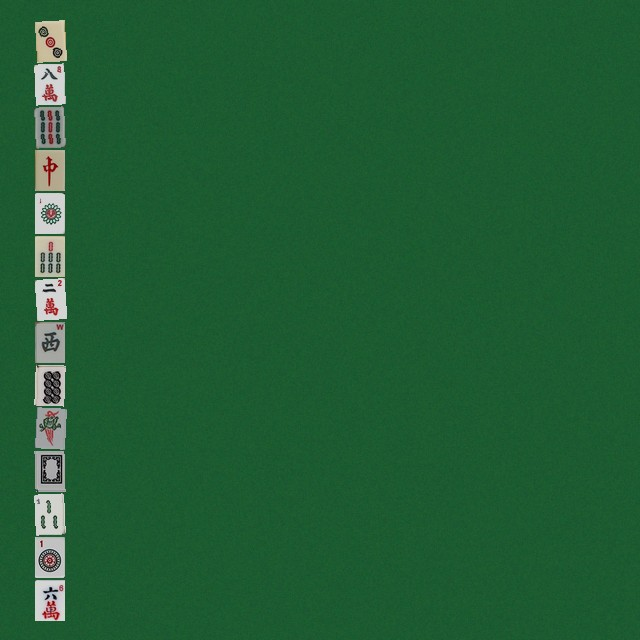tile: (34, 20, 64, 61), (34, 63, 64, 104), (34, 106, 64, 147), (34, 149, 64, 190), (34, 192, 64, 233), (34, 235, 64, 276), (34, 278, 64, 319), (34, 321, 64, 362), (34, 364, 64, 405), (34, 407, 64, 448), (34, 450, 64, 491), (34, 493, 64, 534), (34, 536, 64, 577), (34, 579, 64, 620)
